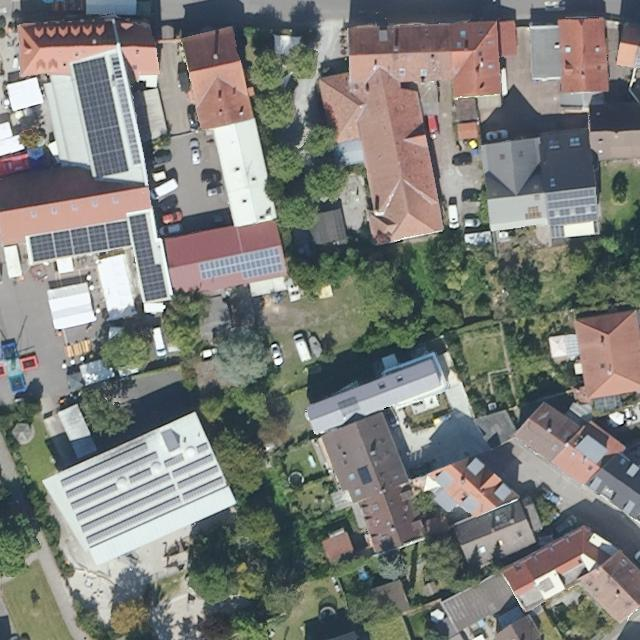PV: (76, 454, 225, 547), (73, 57, 131, 181), (60, 440, 161, 502), (29, 219, 133, 264), (126, 212, 169, 303), (109, 51, 142, 167), (197, 246, 285, 280), (69, 481, 120, 511), (546, 187, 599, 210), (548, 213, 598, 226), (128, 465, 158, 486), (162, 453, 187, 469), (355, 465, 374, 485), (196, 442, 209, 454), (575, 207, 586, 215), (560, 209, 570, 216), (590, 206, 598, 213), (548, 210, 555, 217)
